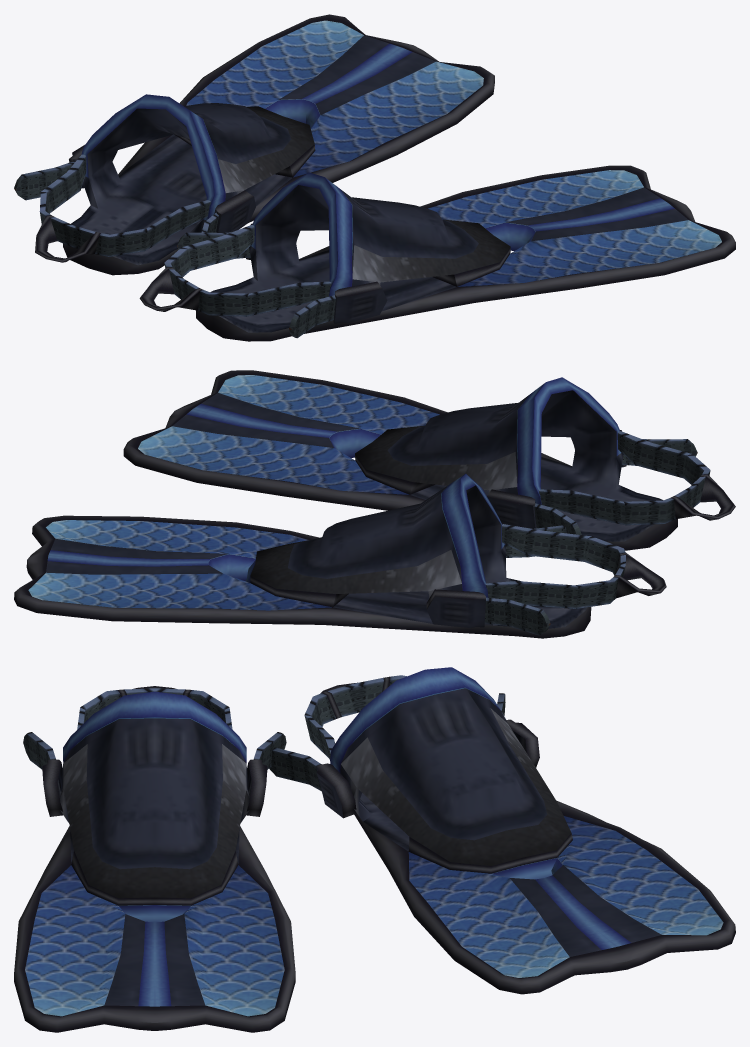
Rendered from StandardFlippers.fbx.
3 views of the same model, one above another, from view 1: azimuth 30°, elevation 25°; view 2: azimuth 150°, elevation 25°; view 3: azimuth 270°, elevation 25° (orthographic). The views are drawn at different scales.
Parts seen in each view (by area): view 1: Plane.010; view 2: Plane.010; view 3: Plane.010.
Part boxes in pixels (x1,y1,x2,y2): Plane.010: [14, 14, 735, 341]; Plane.010: [14, 370, 735, 638]; Plane.010: [14, 667, 735, 1032].
Size of the model in its own units: 136 by 30.21 by 132.
2 materials, 2 textured.
